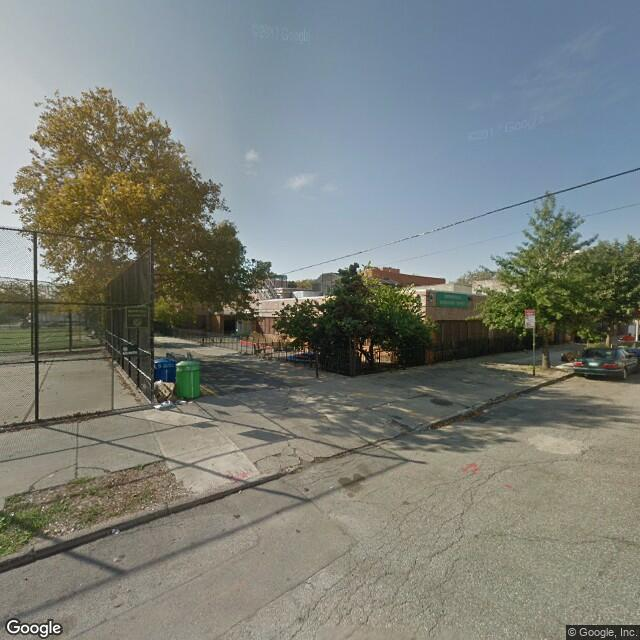litter: (151, 381, 188, 414)
